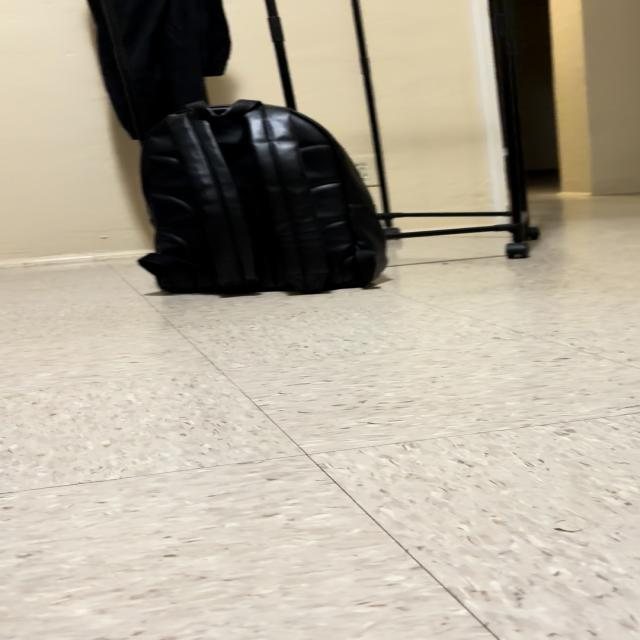backpack: (140, 100, 386, 293)
